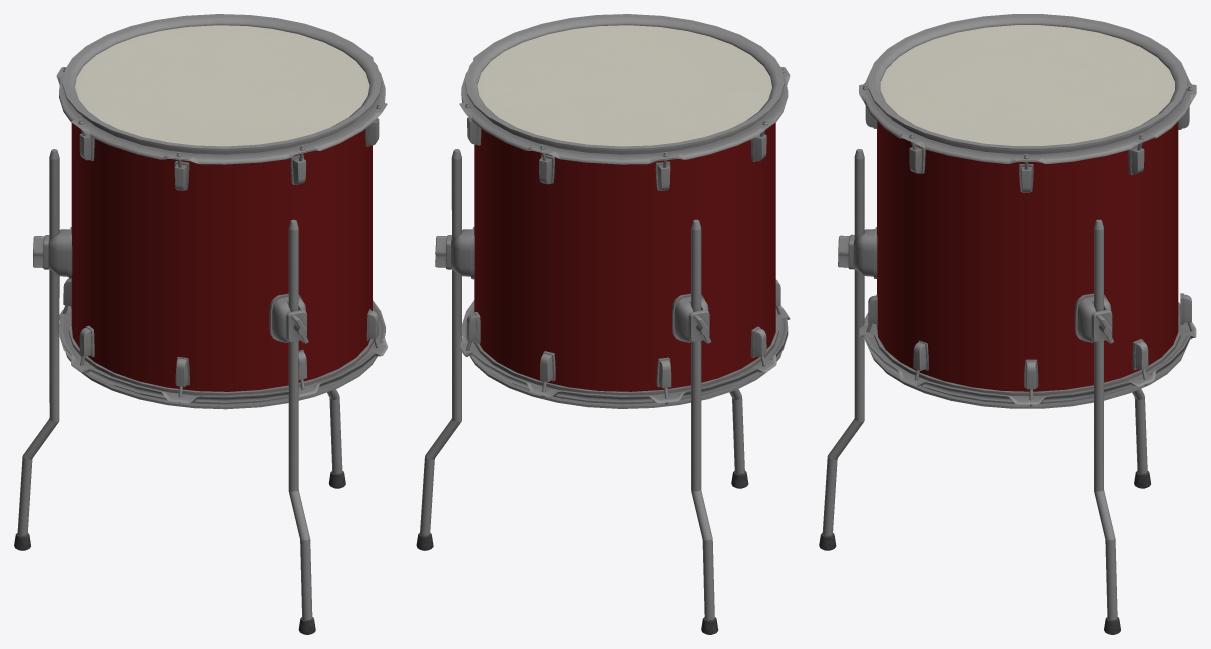
Rendered from SM_Drum_StandTom_01.fbx.
3 views of the same model, side by side, from view 1: azimuth 30°, elevation 25°; view 2: azimuth 150°, elevation 25°; view 3: azimuth 270°, elevation 25° (orthographic).
Visible parts, largest first — view 1: SM_Drum_StandTom_01_LOD0; view 2: SM_Drum_StandTom_01_LOD0; view 3: SM_Drum_StandTom_01_LOD0.
Part boxes in pixels (x1,y1,x2,y2): SM_Drum_StandTom_01_LOD0: (14,14,387,634); SM_Drum_StandTom_01_LOD0: (416,14,790,634); SM_Drum_StandTom_01_LOD0: (819,14,1196,634).
Size of the model in its own units: 44.88 by 46.63 by 64.69.
1 material, 1 textured.
